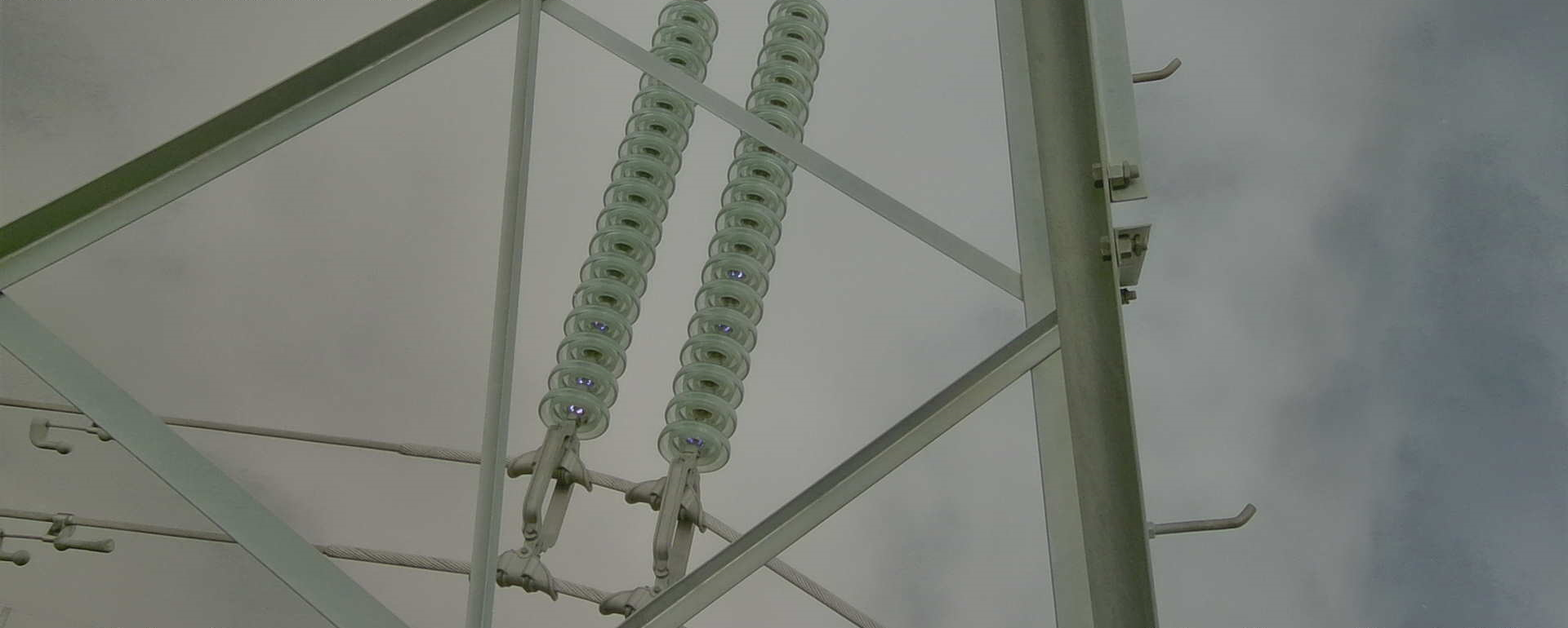绝缘子污闪: (568, 404, 584, 414), (576, 377, 591, 386), (593, 320, 606, 330), (687, 437, 703, 445), (730, 269, 743, 278), (717, 323, 729, 332)
